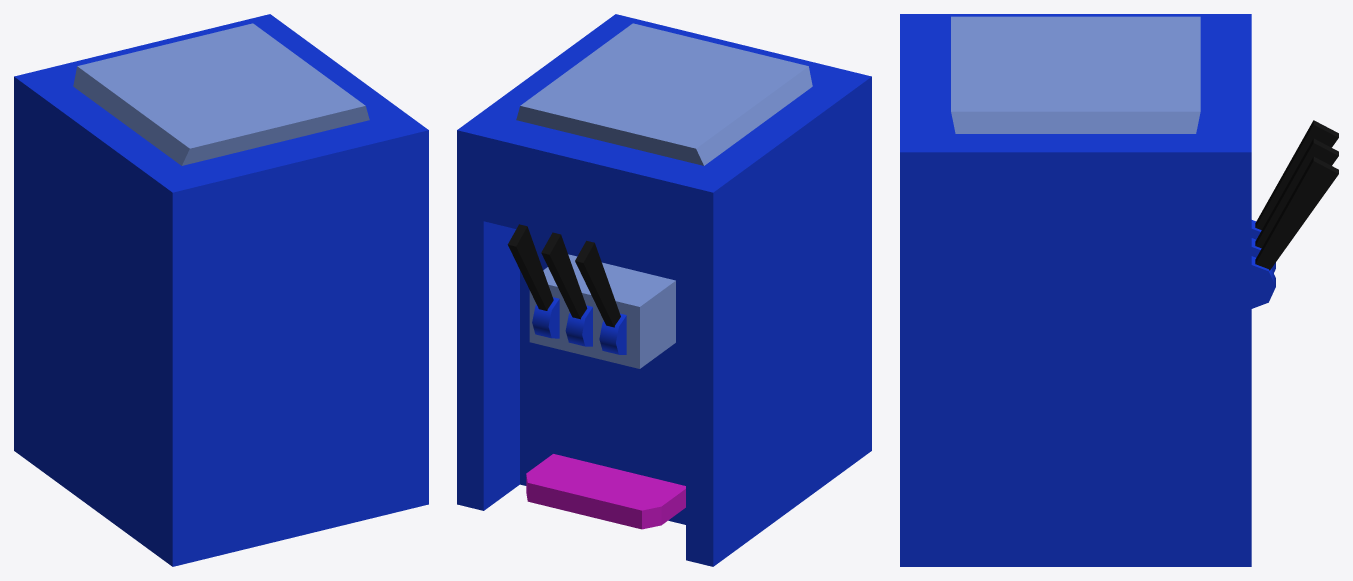
File: MayLamKem.FBX
3 views of the same model, side by side, from view 1: azimuth 30°, elevation 25°; view 2: azimuth 150°, elevation 25°; view 3: azimuth 270°, elevation 25° (orthographic). The views are drawn at different scales.
Visible parts, largest first — view 1: MayLamKem; view 2: MayLamKem, Box202, Box205; view 3: MayLamKem, Box205.
Boxes of the visible parts, x1=… form: MayLamKem: x1=14, y1=14, x2=428, y2=566; MayLamKem: x1=457, y1=14, x2=871, y2=566; Box202: x1=526, y1=454, x2=685, y2=529; Box205: x1=507, y1=224, x2=620, y2=327; MayLamKem: x1=900, y1=14, x2=1275, y2=566; Box205: x1=1255, y1=120, x2=1338, y2=270.
Bounding box in the file's own units: 1.3 × 1.89 × 1.74.
